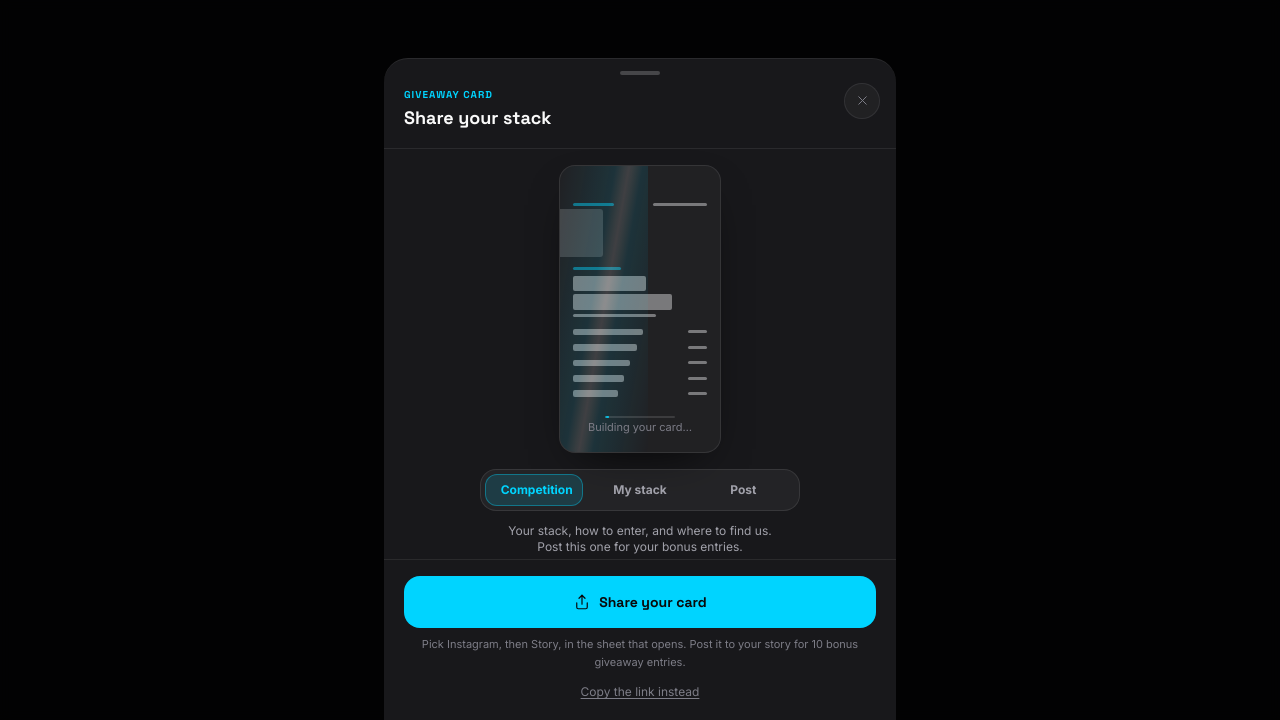
after a successful share › holds the bonus, and says where the email box is, when they have not entered yet
The image size is (1280, 720).
Expected: the tab "Competition" is shown, 485,474 -> 588,506
What coordinates should you click on to do the following:
click the button "Share your card"
I would click on:
 (640, 602)
Its box is 404,576 -> 876,628.
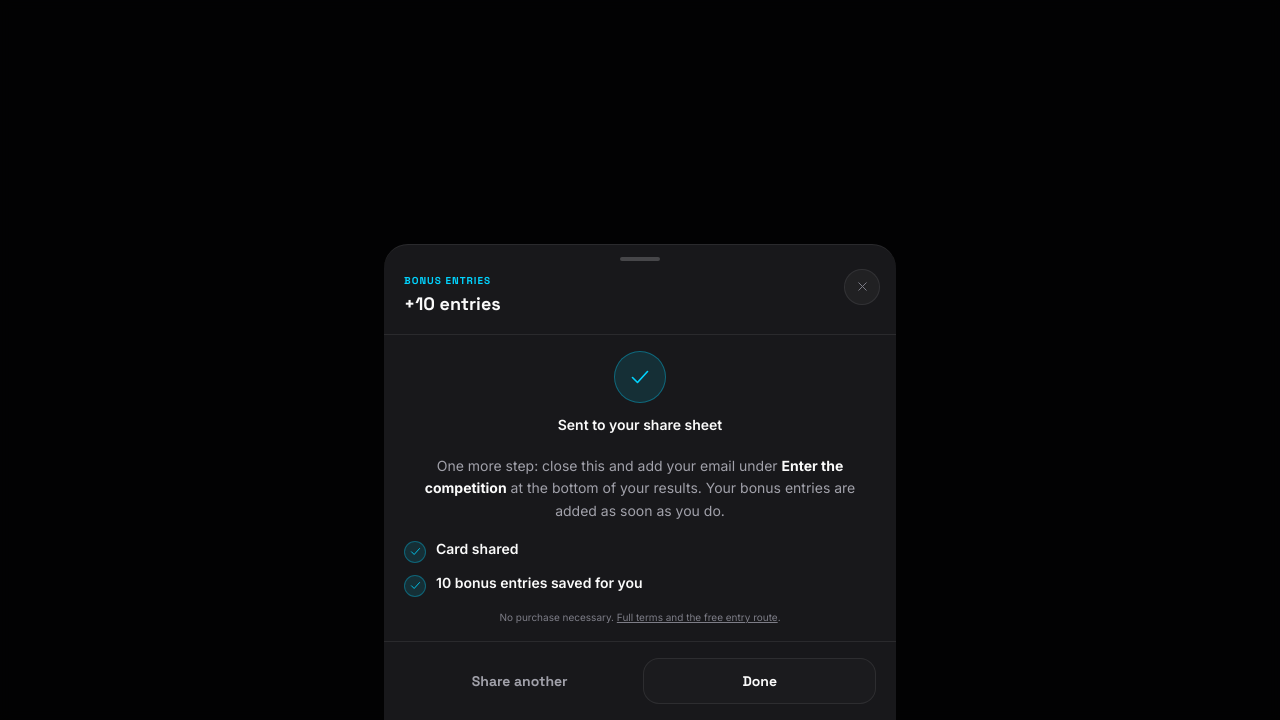
Expected: the text "One more step" is shown, 437,456 -> 778,474
